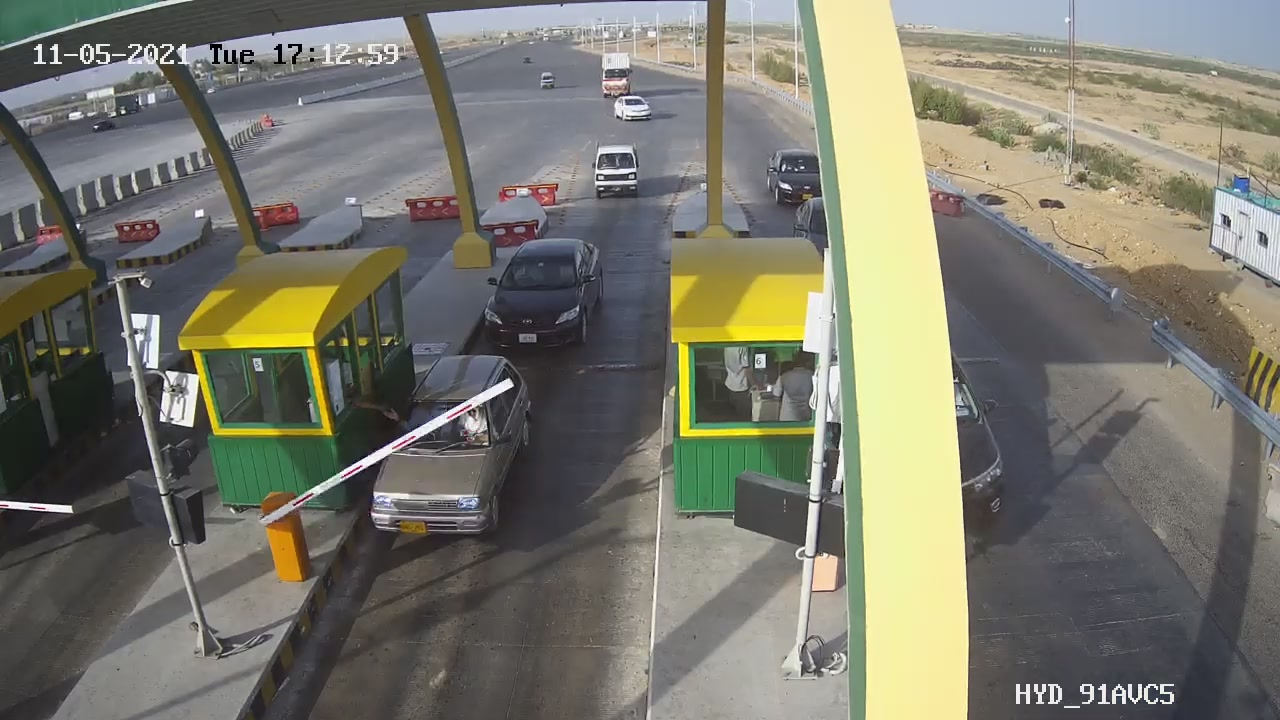F1: (356, 336, 559, 555), (465, 230, 616, 366)
